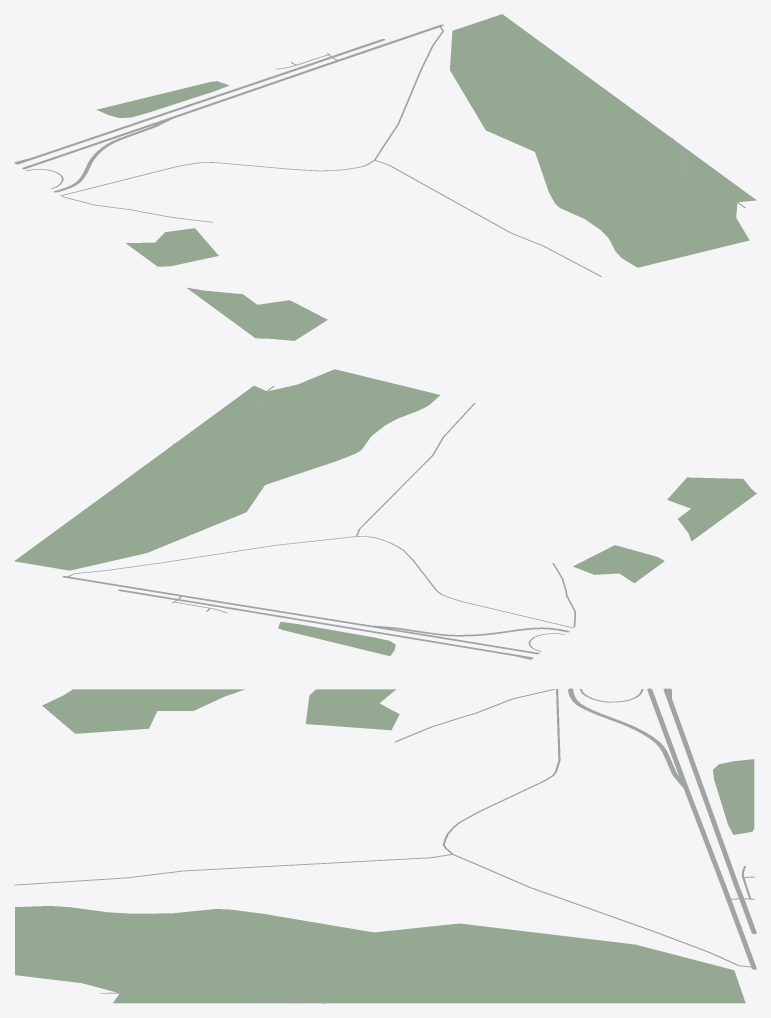
File: -16_14-known-fine.glb
3 views of the same model, one above another, from view 1: azimuth 30°, elevation 25°; view 2: azimuth 150°, elevation 25°; view 3: azimuth 270°, elevation 25° (orthographic). The views are drawn at different scales.
Size of the model in its own units: 1005 by 0.1 by 1000.
